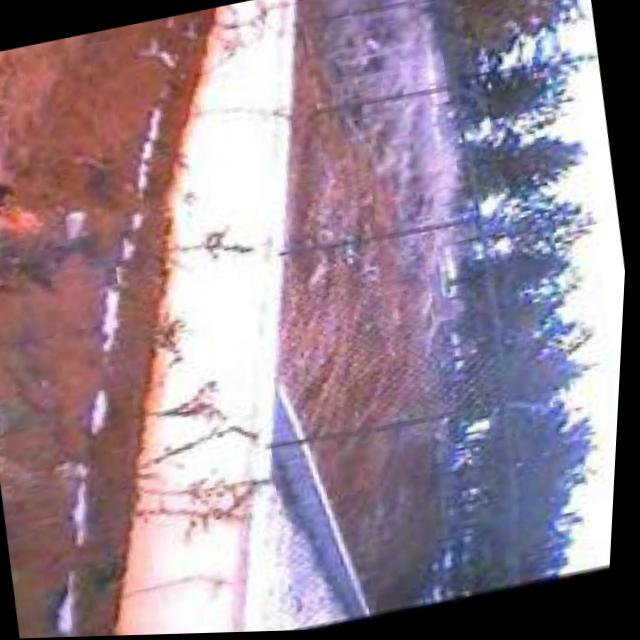Fire: (0, 121, 59, 250)
